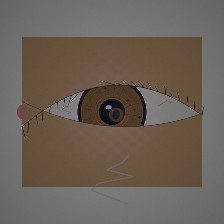foreign_body_visible: (92, 96, 140, 134)
